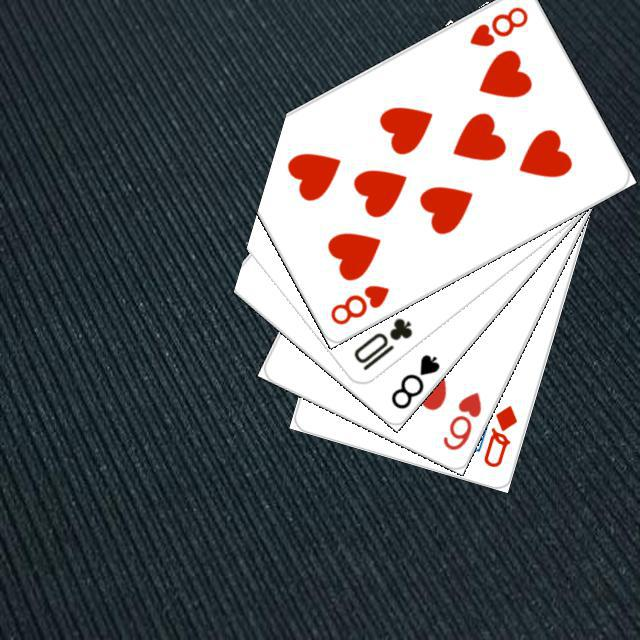10c: (348, 313, 414, 372)
6h: (437, 387, 484, 452)
8h: (325, 279, 391, 327), (464, 1, 530, 49)
8s: (385, 349, 442, 411)
Qd: (478, 400, 519, 469)
